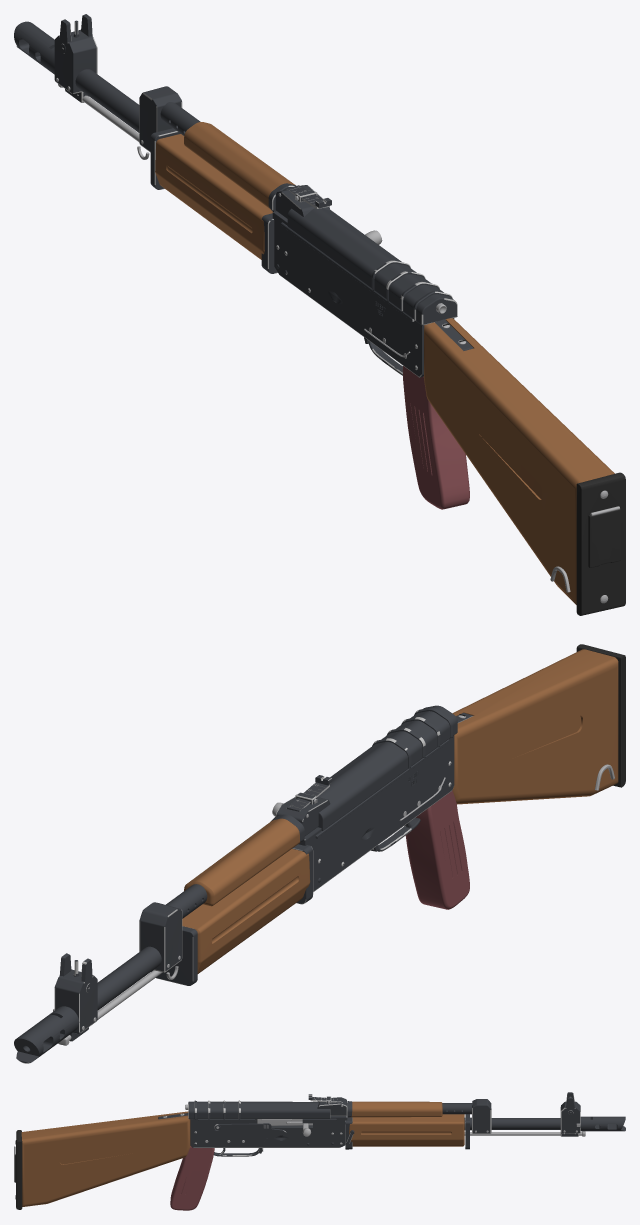
The picture shows the model from 3 angles, top to bottom: view 1: azimuth 30°, elevation 25°; view 2: azimuth 150°, elevation 25°; view 3: azimuth 270°, elevation 25°; orthographic projection. The views are drawn at different scales.
Parts seen in each view (by area): view 1: static, static_butt; view 2: static, static_butt; view 3: static, static_butt, selector, bolt_carrier.
Part boxes in pixels (left/top/right/bottom): static: left=14, top=14, right=473, bottom=509; static_butt: left=424, top=318, right=625, bottom=615; static: left=14, top=705, right=472, bottom=1063; static_butt: left=452, top=644, right=625, bottom=804; static: left=158, top=1092, right=625, bottom=1210; static_butt: left=14, top=1111, right=190, bottom=1209; selector: left=214, top=1123, right=286, bottom=1134; bolt_carrier: left=257, top=1119, right=312, bottom=1136.
Size of the model in its own units: 0.0761 by 0.2033 by 1.
